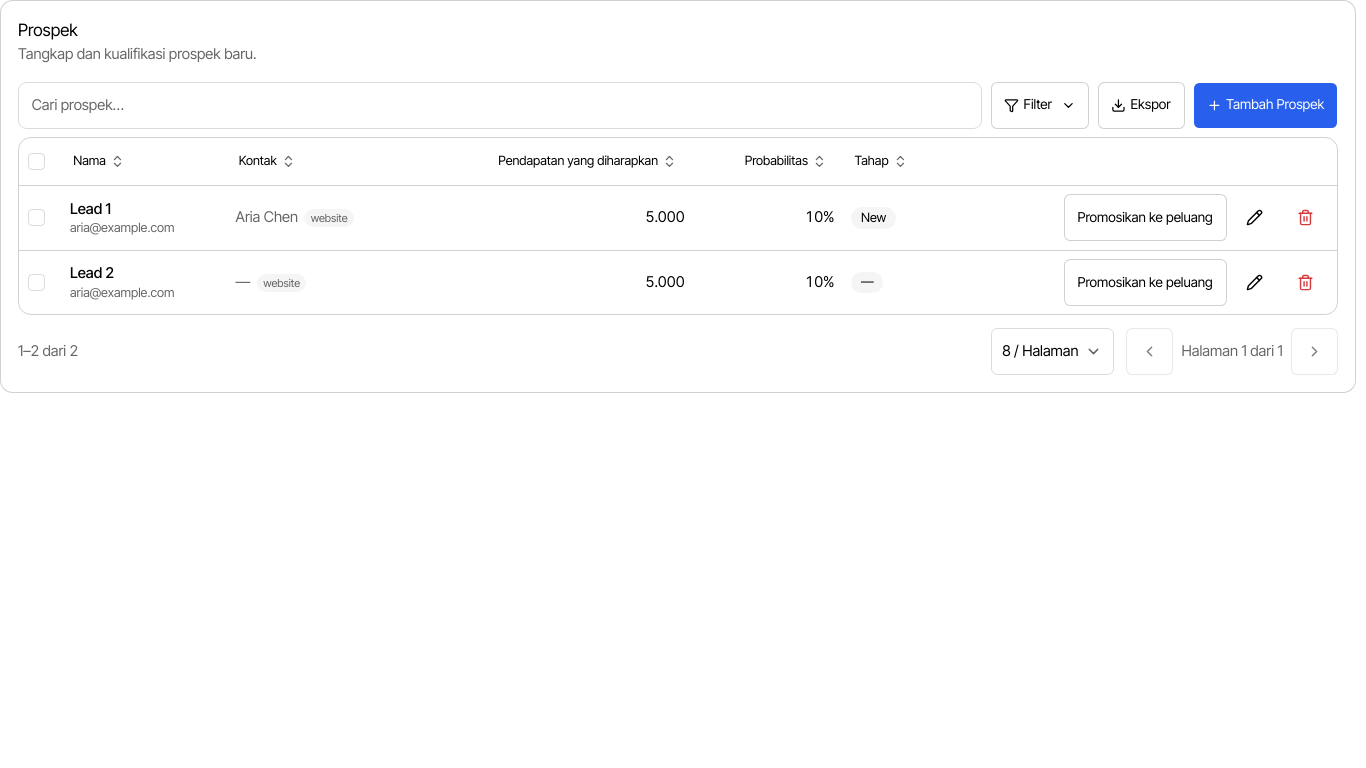
Test: LeadsSection extra2 › opens the promote dialog from the promote action
Expected: the text "Lead 1" is shown, left=70, top=200, right=111, bottom=218
Click the button "Promosikan ke peluang" in the row of "Lead 1": (1145, 218) left=1064, top=194, right=1226, bottom=241
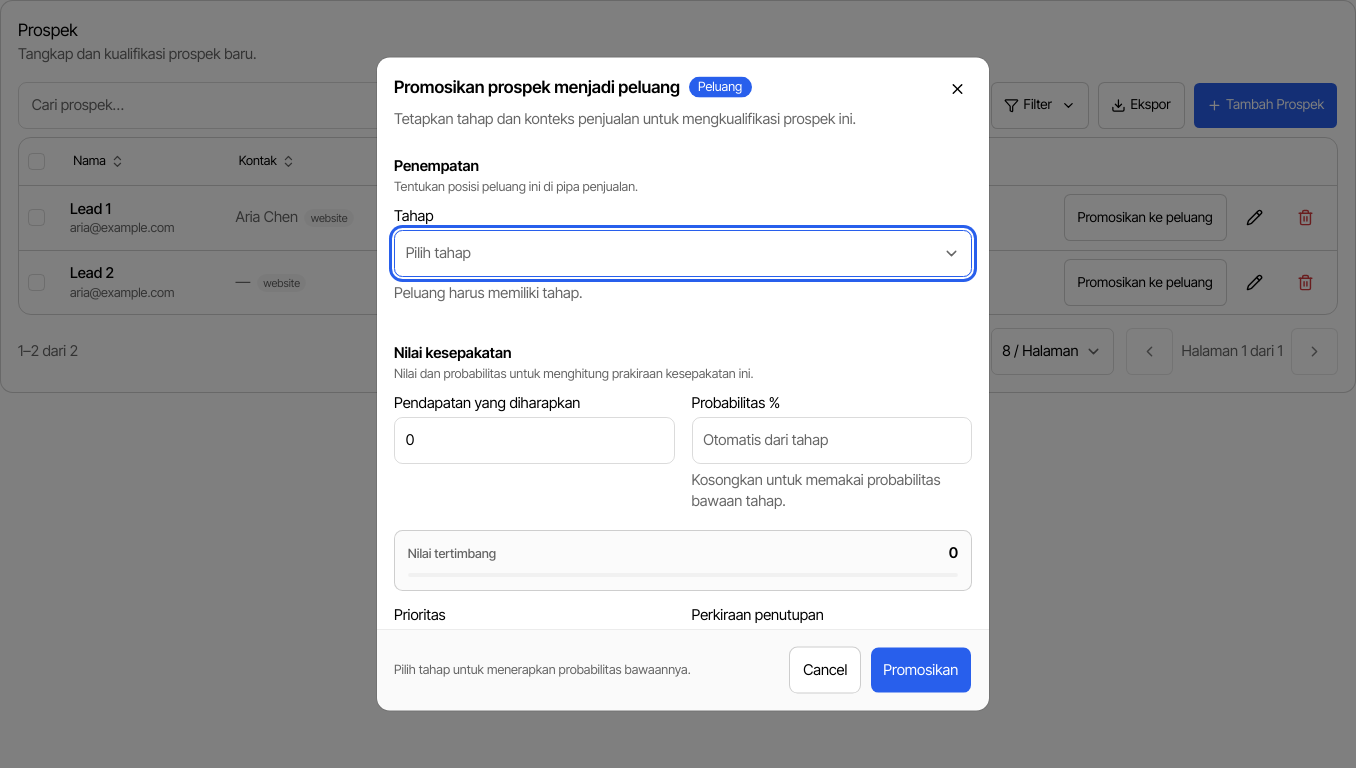
Result: the heading "Promosikan prospek menjadi peluang" is shown at left=394, top=75, right=680, bottom=100
